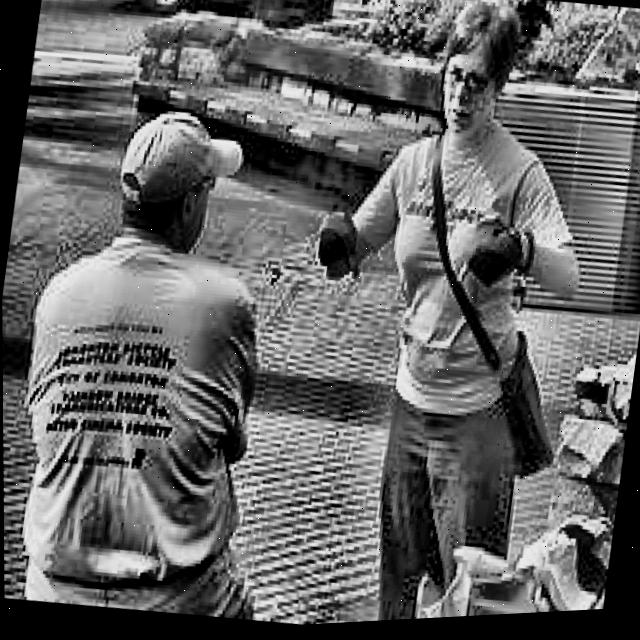light_vehicle: (74, 0, 435, 53)
